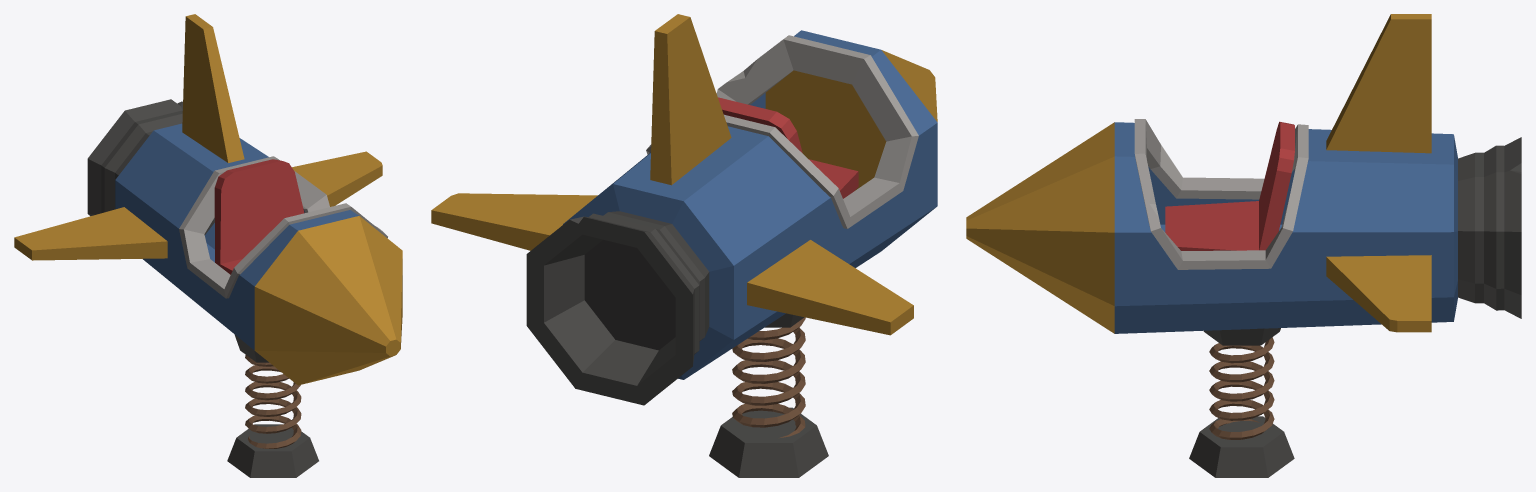
The model's file is SM_Props_City_PlayGround_Equipment_SpringRocket.fbx.
3 renders of one model, left to right at view 1: azimuth 30°, elevation 25°; view 2: azimuth 150°, elevation 25°; view 3: azimuth 270°, elevation 25°, orthographic. The views are drawn at different scales.
Parts seen in each view (by area): view 1: SM_Props_City_PlayGround_Equipment_SpringRocket; view 2: SM_Props_City_PlayGround_Equipment_SpringRocket; view 3: SM_Props_City_PlayGround_Equipment_SpringRocket.
Part boxes in pixels (x1,y1,x2,y2): SM_Props_City_PlayGround_Equipment_SpringRocket: (14, 14, 402, 477); SM_Props_City_PlayGround_Equipment_SpringRocket: (431, 14, 937, 477); SM_Props_City_PlayGround_Equipment_SpringRocket: (966, 14, 1521, 477).
Bounding box in the file's own units: 220 × 230 × 262.
